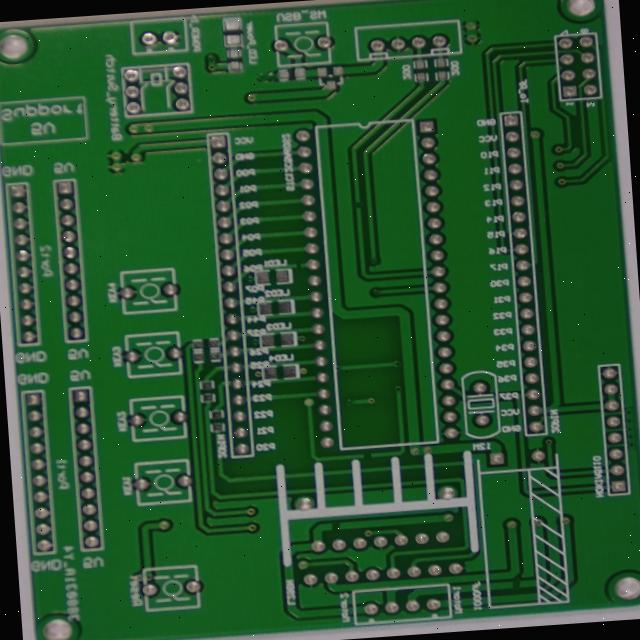open_circuit: (381, 568, 403, 579), (421, 491, 439, 501), (342, 281, 357, 293), (413, 214, 425, 226)
